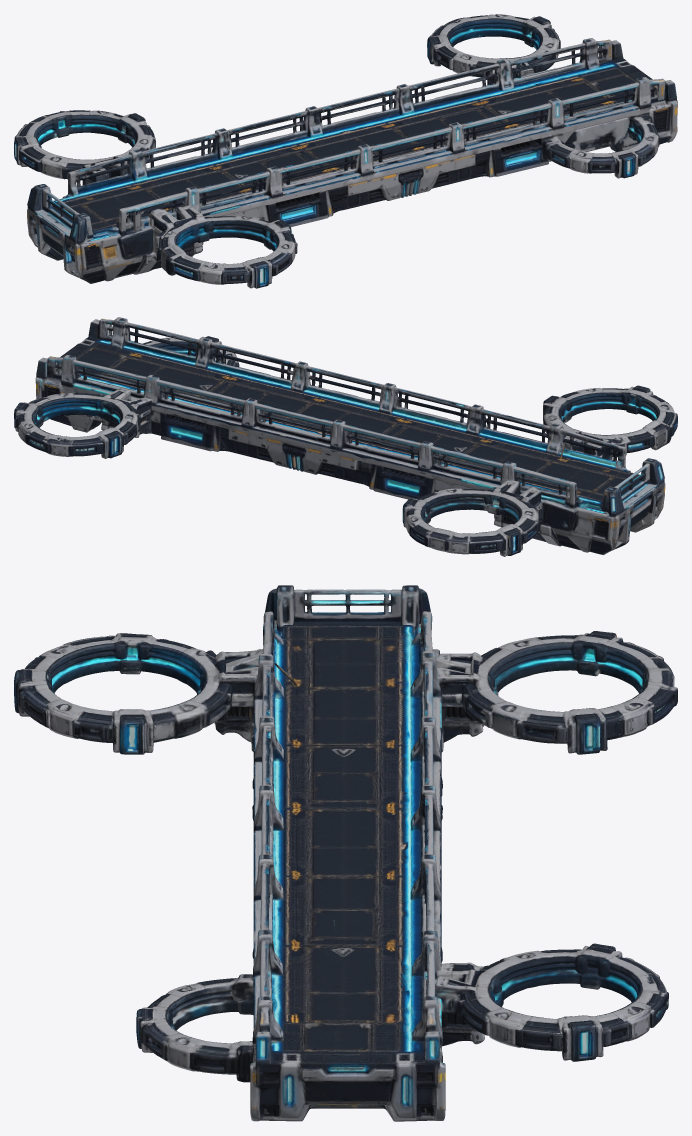
Rendered from catwalk.glb.
3 views of the same model, one above another, from view 1: azimuth 30°, elevation 25°; view 2: azimuth 150°, elevation 25°; view 3: azimuth 270°, elevation 25° (orthographic). The views are drawn at different scales.
Size of the model in its own units: 1.9 by 0.2414 by 1.17.
1 material, 1 textured.
